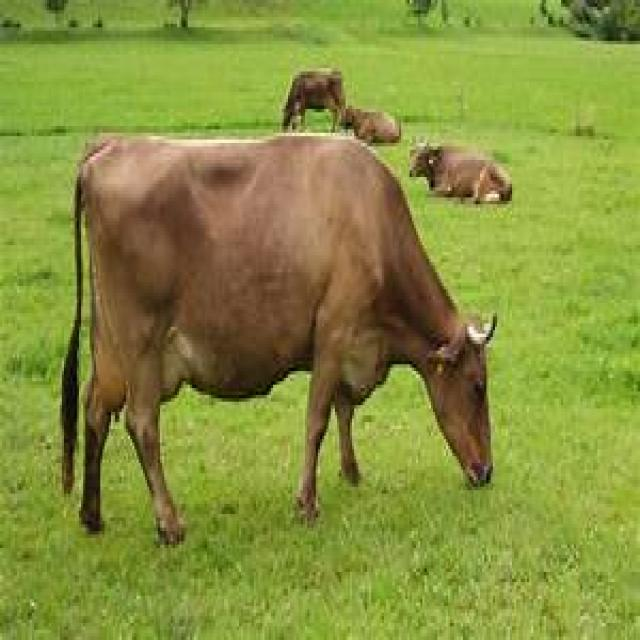cow: (60, 136, 497, 548), (412, 143, 514, 208), (282, 68, 350, 133)
